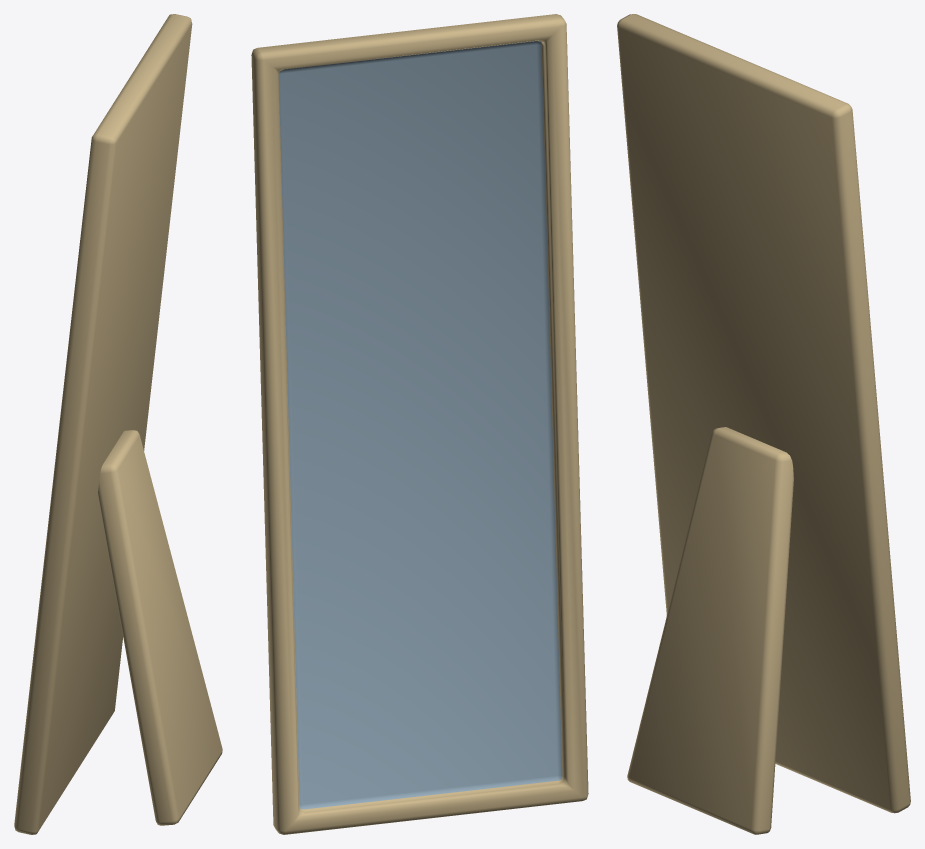
File: Espejo.fbx
3 views of the same model, side by side, from view 1: azimuth 30°, elevation 25°; view 2: azimuth 150°, elevation 25°; view 3: azimuth 270°, elevation 25° (orthographic). The views are drawn at different scales.
Parts seen in each view (by area): view 1: Cube.006; view 2: Cube.006; view 3: Cube.006.
Part boxes in pixels (x1,y1,x2,y2): Cube.006: [14, 14, 222, 834]; Cube.006: [251, 14, 588, 834]; Cube.006: [617, 14, 910, 834].
Size of the model in its own units: 0.2517 by 0.2517 by 0.6925.
